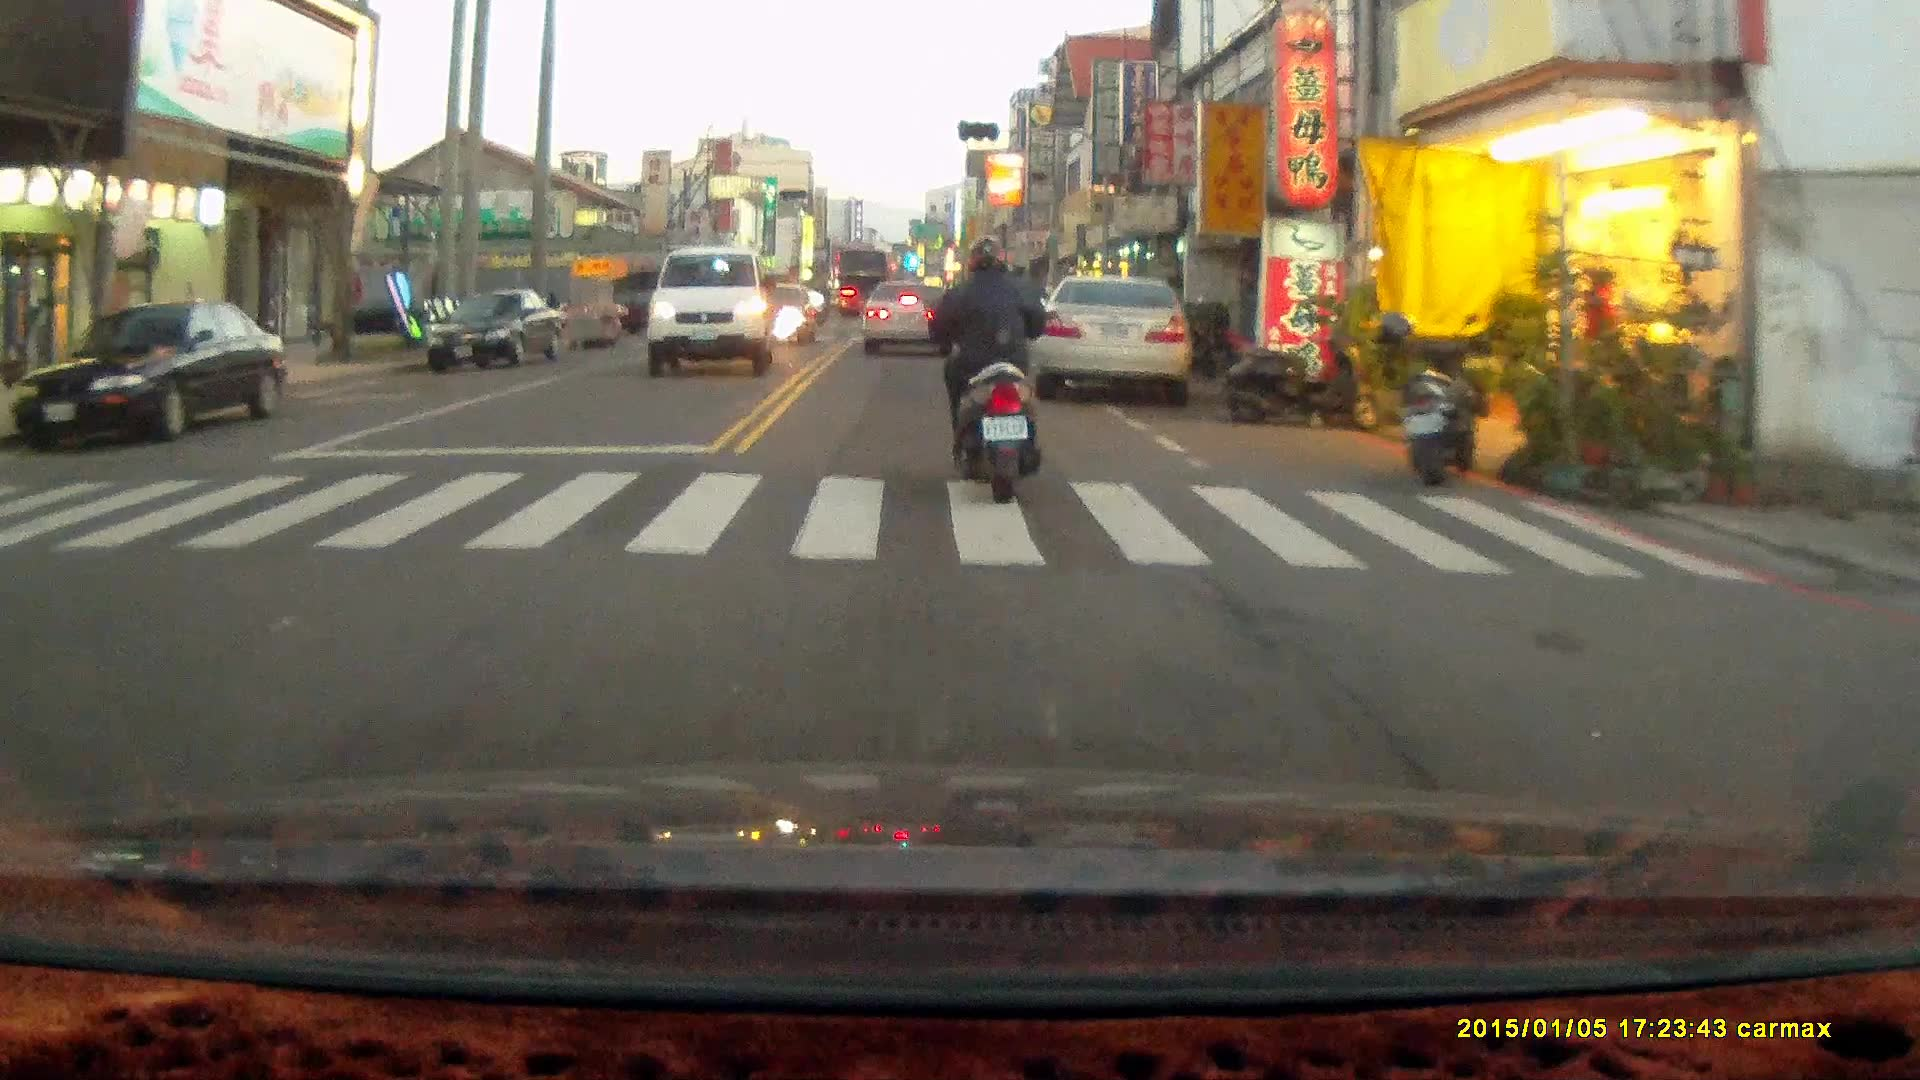pedestrian: (1585, 263, 1624, 398)
rider: (926, 231, 1051, 500)
vehicle: (14, 302, 286, 448), (1038, 276, 1195, 410), (647, 248, 777, 381), (424, 286, 569, 373), (858, 281, 956, 358)
